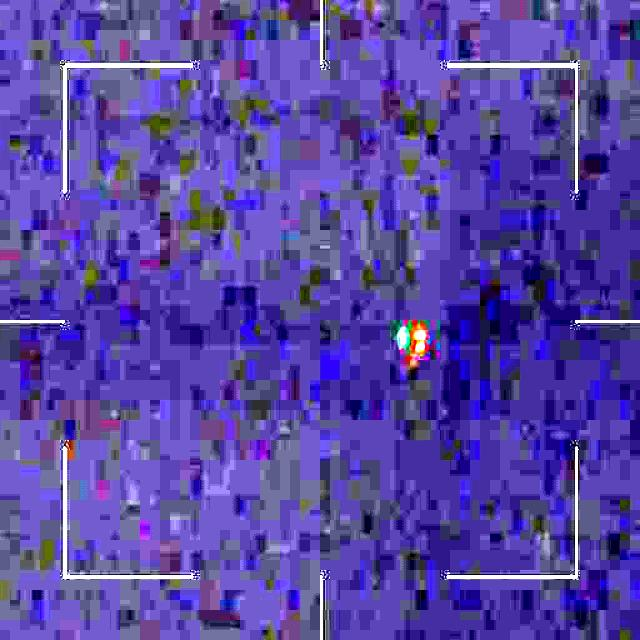bird: (396, 320, 426, 360)
